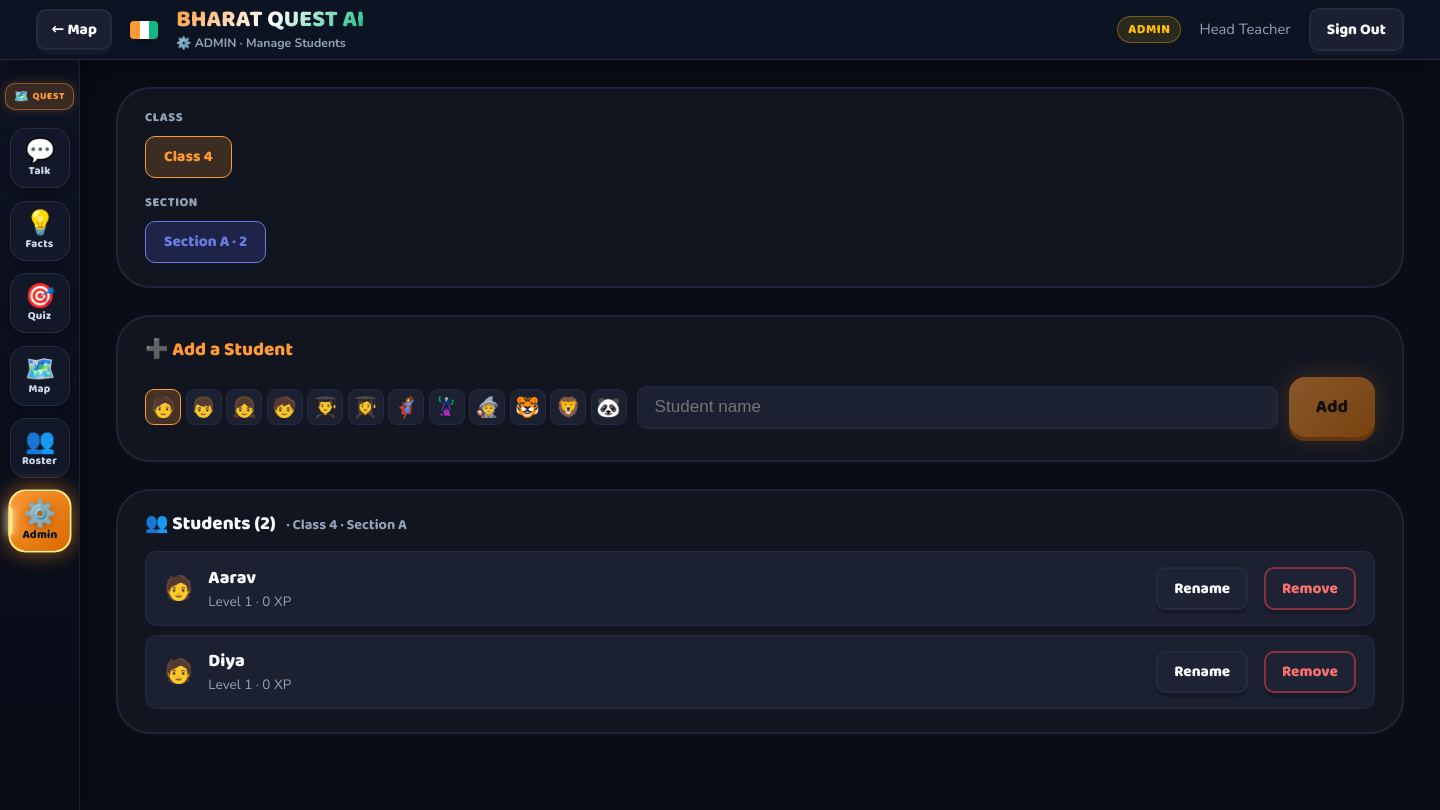
Test: AdminPage — saving › writes staged changes and reports success
Expected: the text "Aarav" is shown, [208,564,256,592]
Type "Kabir" into the field with placeholder "Student name".
click(958, 407); type("Kabir")  # box [637,386,1278,429]
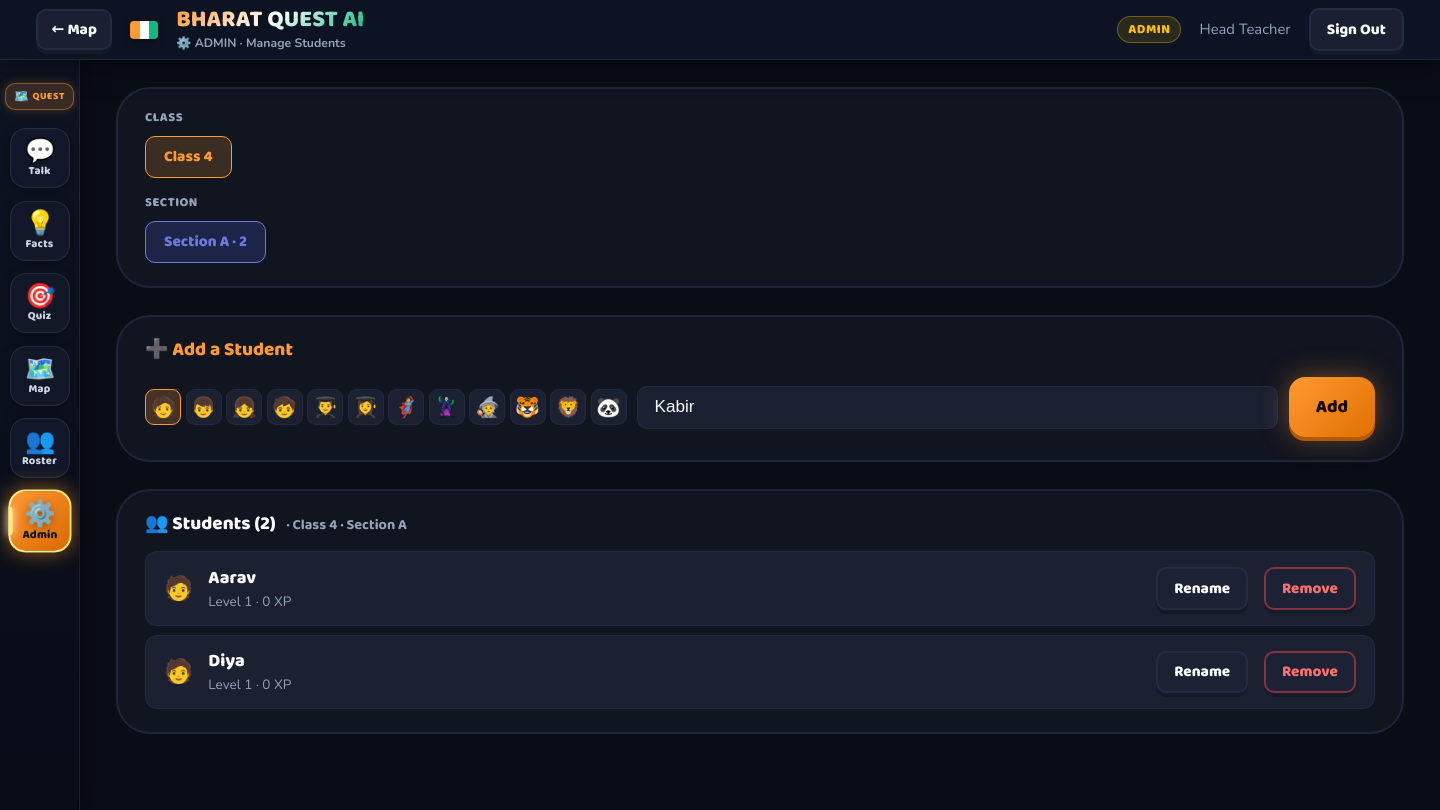
Click the button "Add".
click(1332, 407)  # box [1289,377,1375,437]
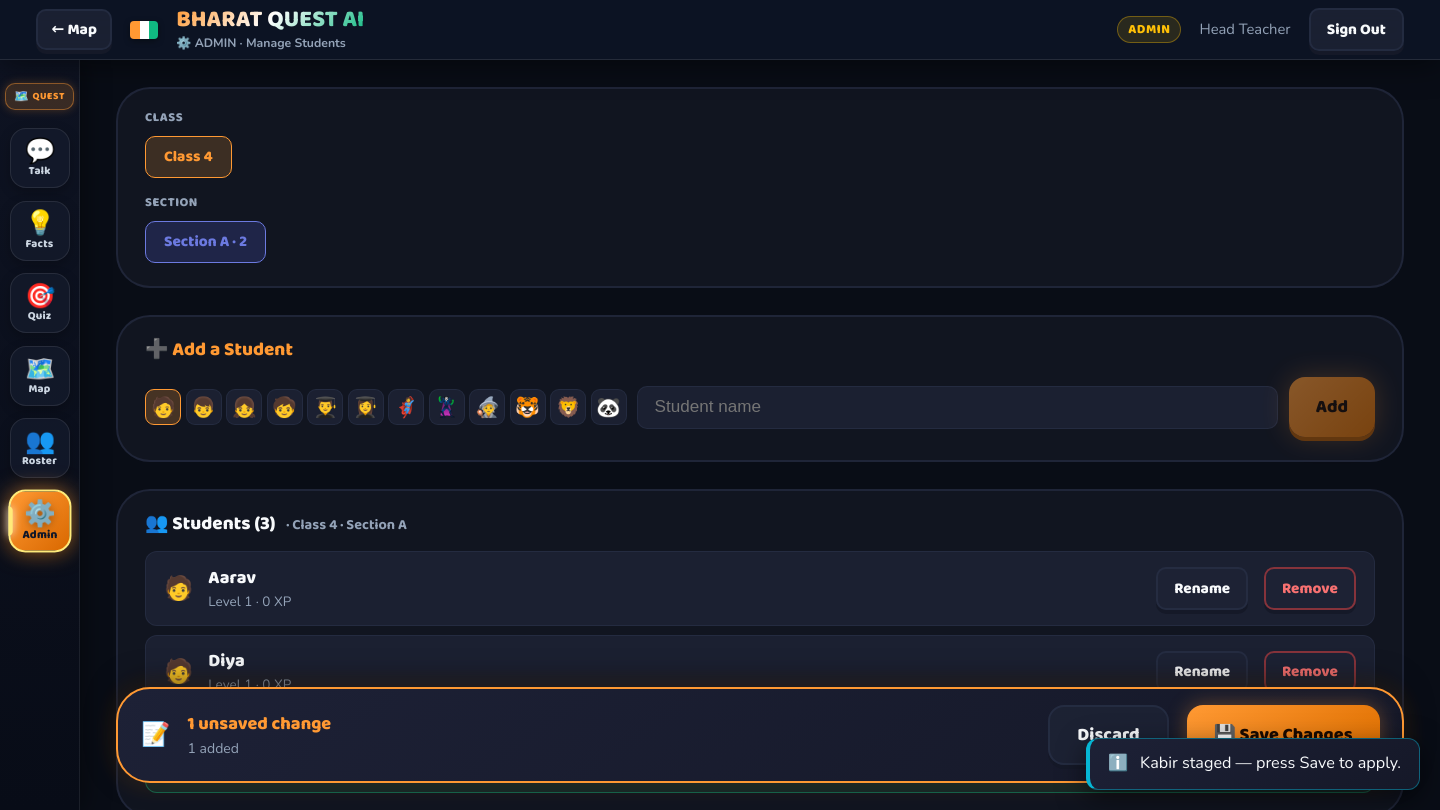
Click the button "💾 Save Changes".
click(1283, 735)  # box [1187,705,1380,765]
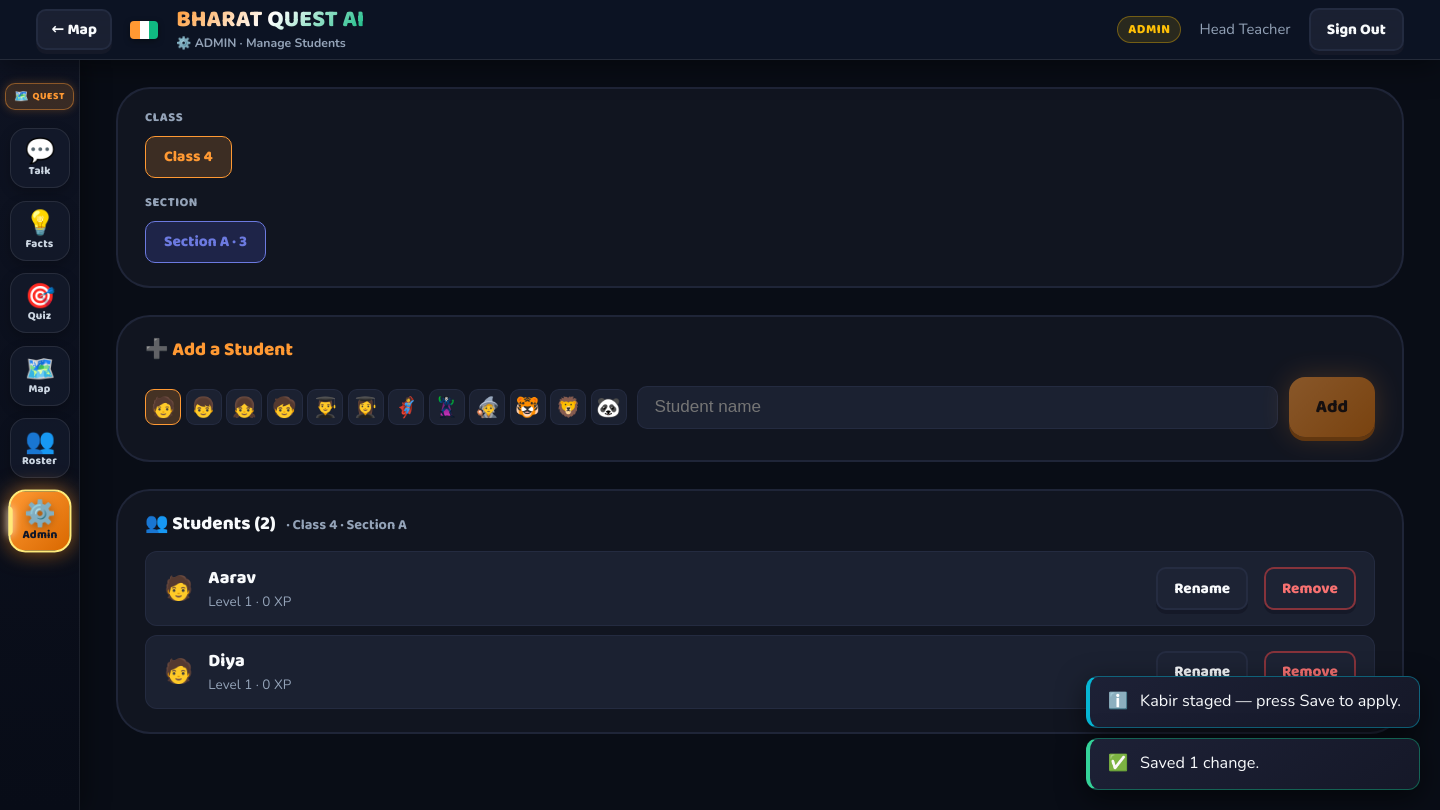
Now the text "Saved 1 change." is shown, box [1140,752,1259,774]
